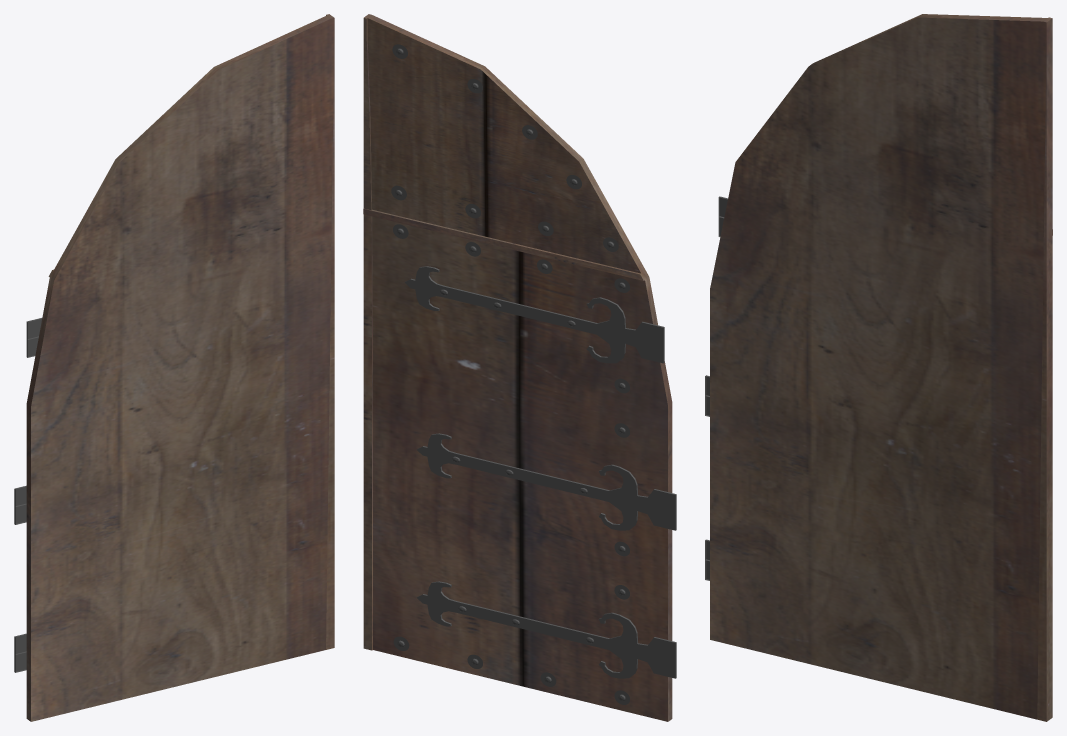
The model's file is porta uscita2.fbx.
The picture shows the model from 3 angles, left to right: view 1: azimuth 30°, elevation 25°; view 2: azimuth 150°, elevation 25°; view 3: azimuth 330°, elevation 25°; orthographic projection. The views are drawn at different scales.
Visible parts, largest first — view 1: Porta entrata.001; view 2: Porta entrata.001; view 3: Porta entrata.001.
Boxes of the visible parts, left/top/right/bottom form: Porta entrata.001: left=14, top=14, right=334, bottom=721; Porta entrata.001: left=363, top=14, right=676, bottom=721; Porta entrata.001: left=705, top=14, right=1052, bottom=721.
Size of the model in its own units: 68.31 by 131 by 2.83.
Materials: 2 (1 with a texture image).
